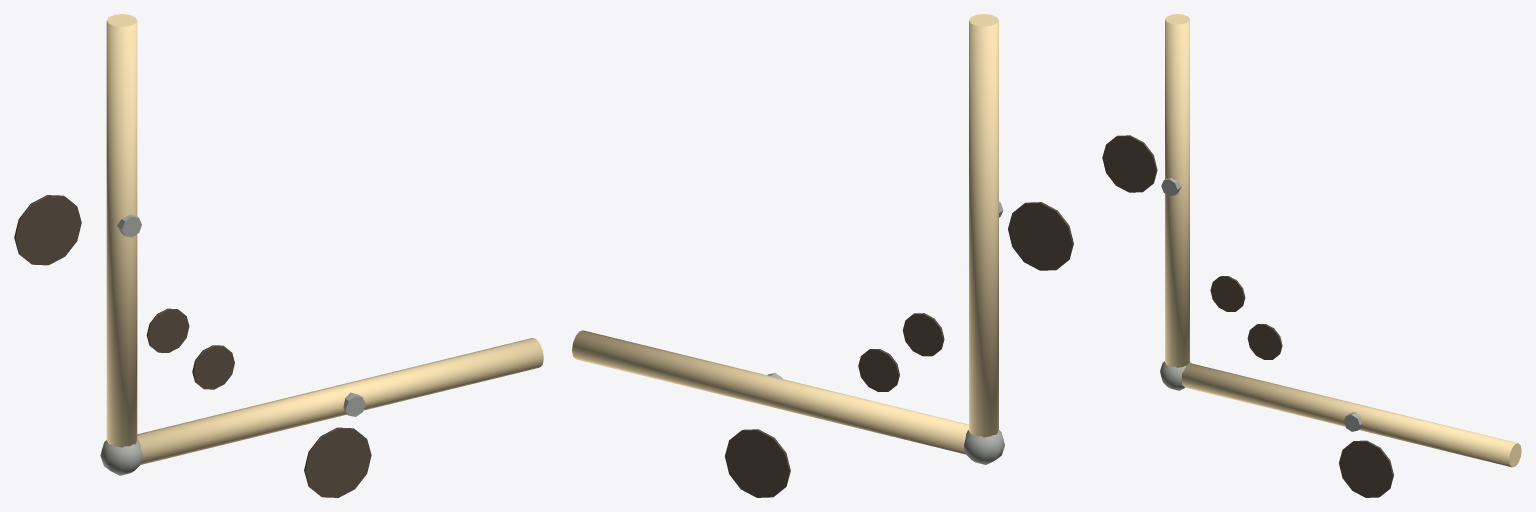
File: drip_m06.obj
3 views of the same model, side by side, from view 1: azimuth 30°, elevation 25°; view 2: azimuth 150°, elevation 25°; view 3: azimuth 330°, elevation 25° (orthographic). The views are drawn at different scales.
Visible parts, largest first — view 1: hose4, hose2, wet2_0, wet4_0, wet2_1, wet4_1, tee; view 2: hose4, hose2, wet4_0, wet2_0, wet4_1, wet2_1, tee; view 3: hose2, hose4, wet4_0, wet2_0, wet4_1, wet2_1, tee.
Part boxes in pixels (left/top/right/bottom): hose4: left=106, top=14, right=137, bottom=447; hose2: left=137, top=338, right=543, bottom=464; wet2_0: left=304, top=427, right=371, bottom=497; wet4_0: left=14, top=195, right=81, bottom=265; wet2_1: left=192, top=345, right=234, bottom=389; wet4_1: left=146, top=308, right=189, bottom=352; tee: left=100, top=440, right=142, bottom=475; hose4: left=969, top=14, right=998, bottom=437; hose2: left=572, top=330, right=968, bottom=454; wet4_0: left=1008, top=202, right=1073, bottom=270; wet2_0: left=725, top=429, right=790, bottom=497; wet4_1: left=902, top=313, right=944, bottom=356; wet2_1: left=858, top=349, right=899, bottom=391; tee: left=964, top=430, right=1004, bottom=464; hose2: left=1182, top=363, right=1521, bottom=467; hose4: left=1165, top=14, right=1189, bottom=367; wet4_0: left=1102, top=135, right=1157, bottom=192; wet2_0: left=1339, top=440, right=1393, bottom=497; wet4_1: left=1210, top=276, right=1245, bottom=311; wet2_1: left=1247, top=324, right=1282, bottom=359; tee: left=1160, top=361, right=1191, bottom=390.
Size of the model in its own units: 0.62 by 0.62 by 0.0464.
Materials: 3 (3 with a texture image).
